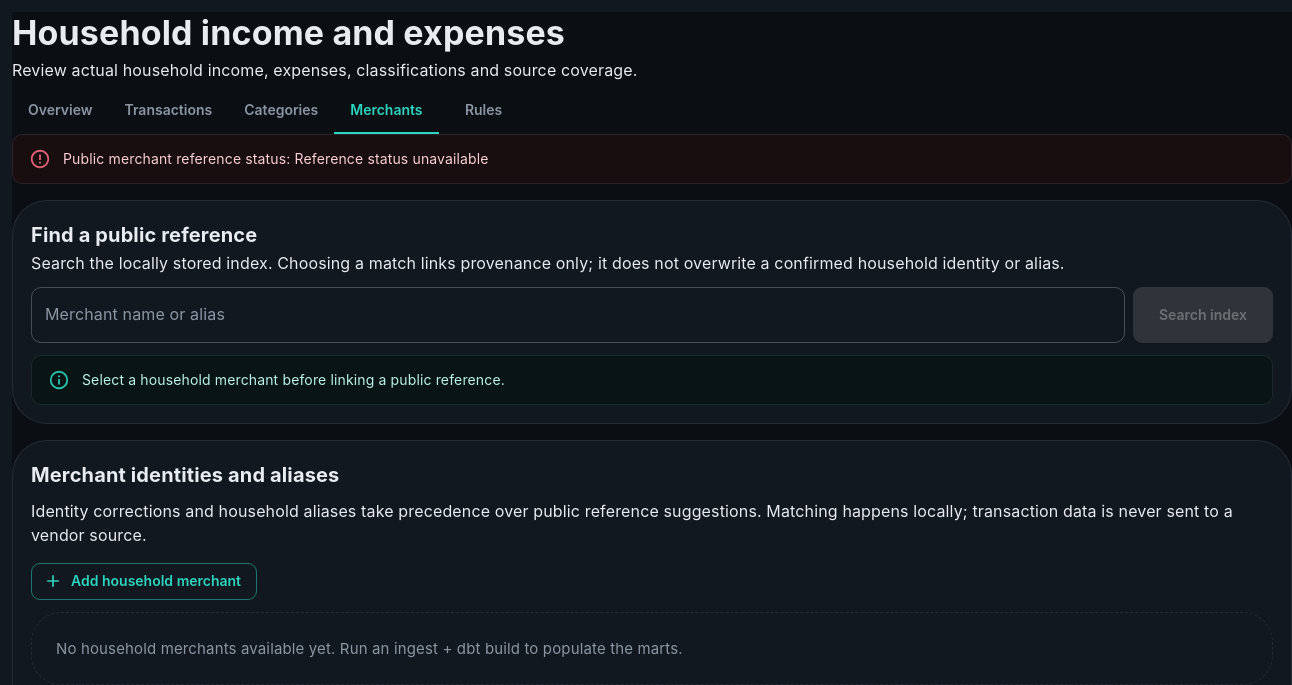
household live API wiring › shows reference-index API failures without inventing source status or matches
The width and height of the screenshot is (1292, 685).
Expected: the text "Reference status unavailable" is shown, [294,150,489,167]
Type "Synthetic" into the field labelled "Merchant name or alias" at (578, 315), box [31,287,1125,343]
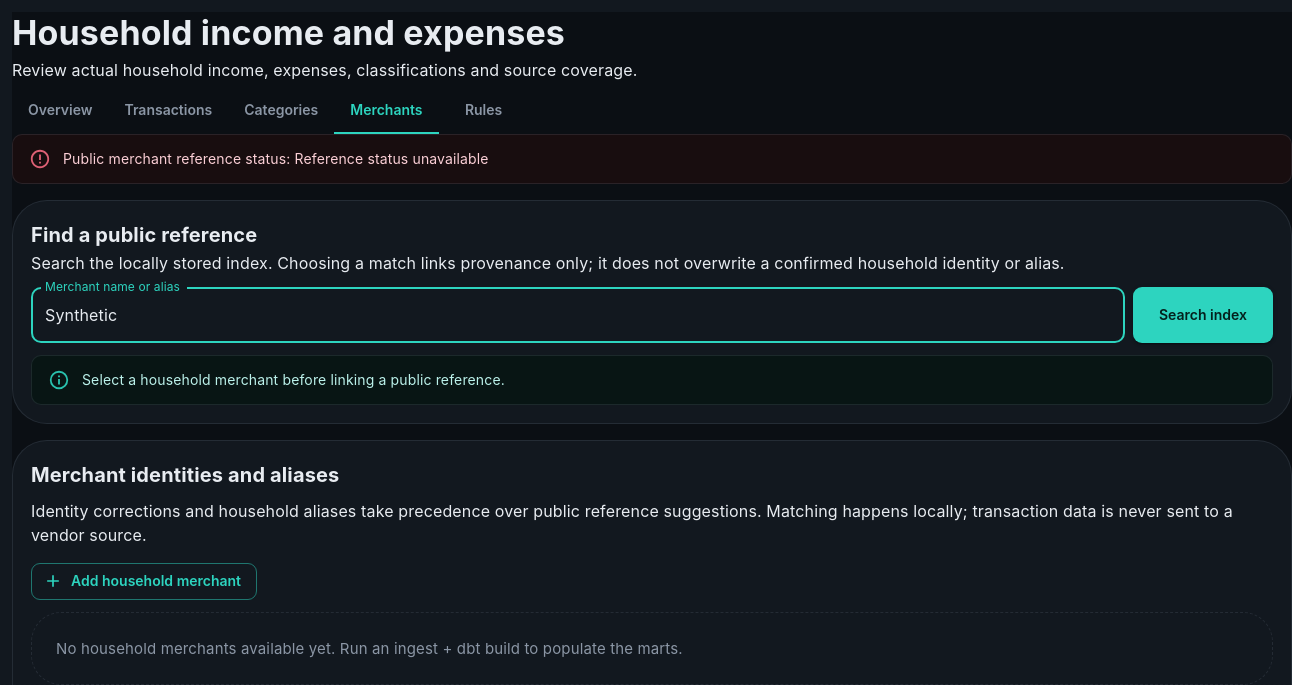
Click the button "Search index" at (1203, 315), box [1133,287,1273,343]
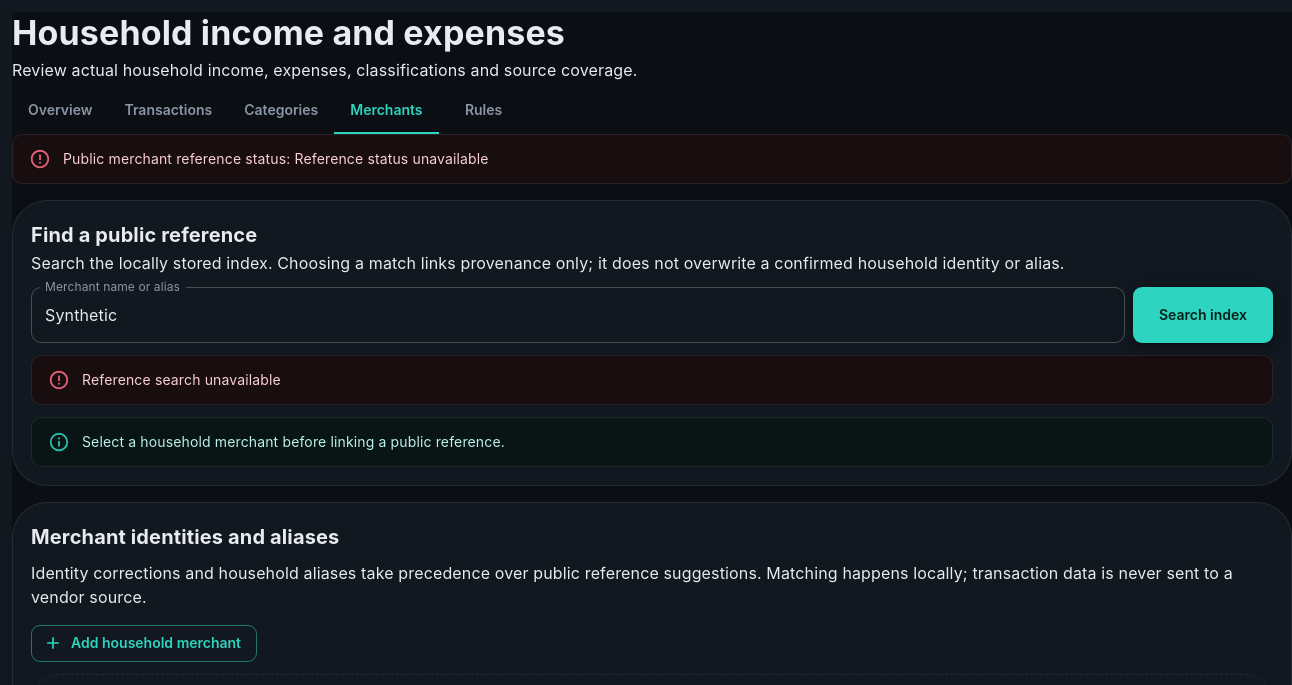
Now the text "Reference search unavailable" is shown, box [82,371,281,388]
